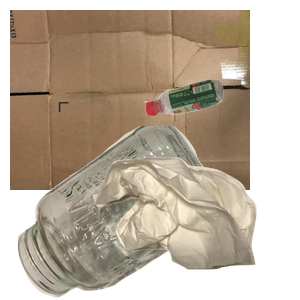cardboard: (10, 10, 250, 190)
glass: (15, 126, 229, 300)
plastic: (142, 77, 300, 186)
trash: (90, 155, 300, 300)
